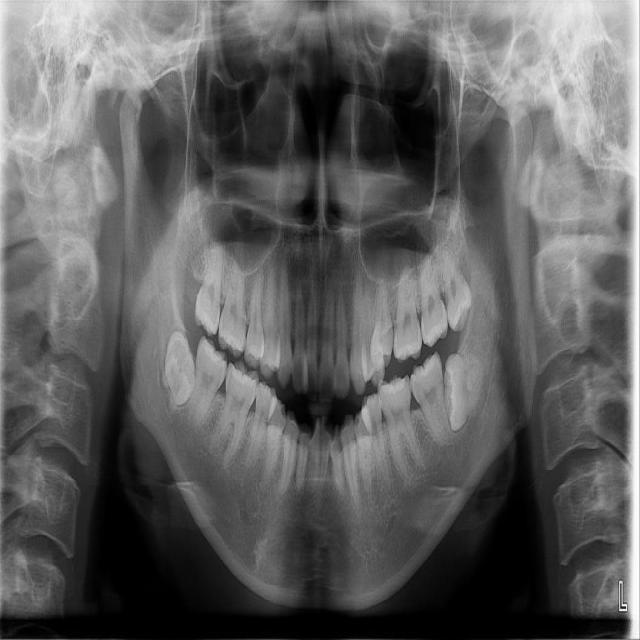impacted tooth: (445, 353, 486, 433), (163, 332, 196, 413), (442, 245, 472, 331)
